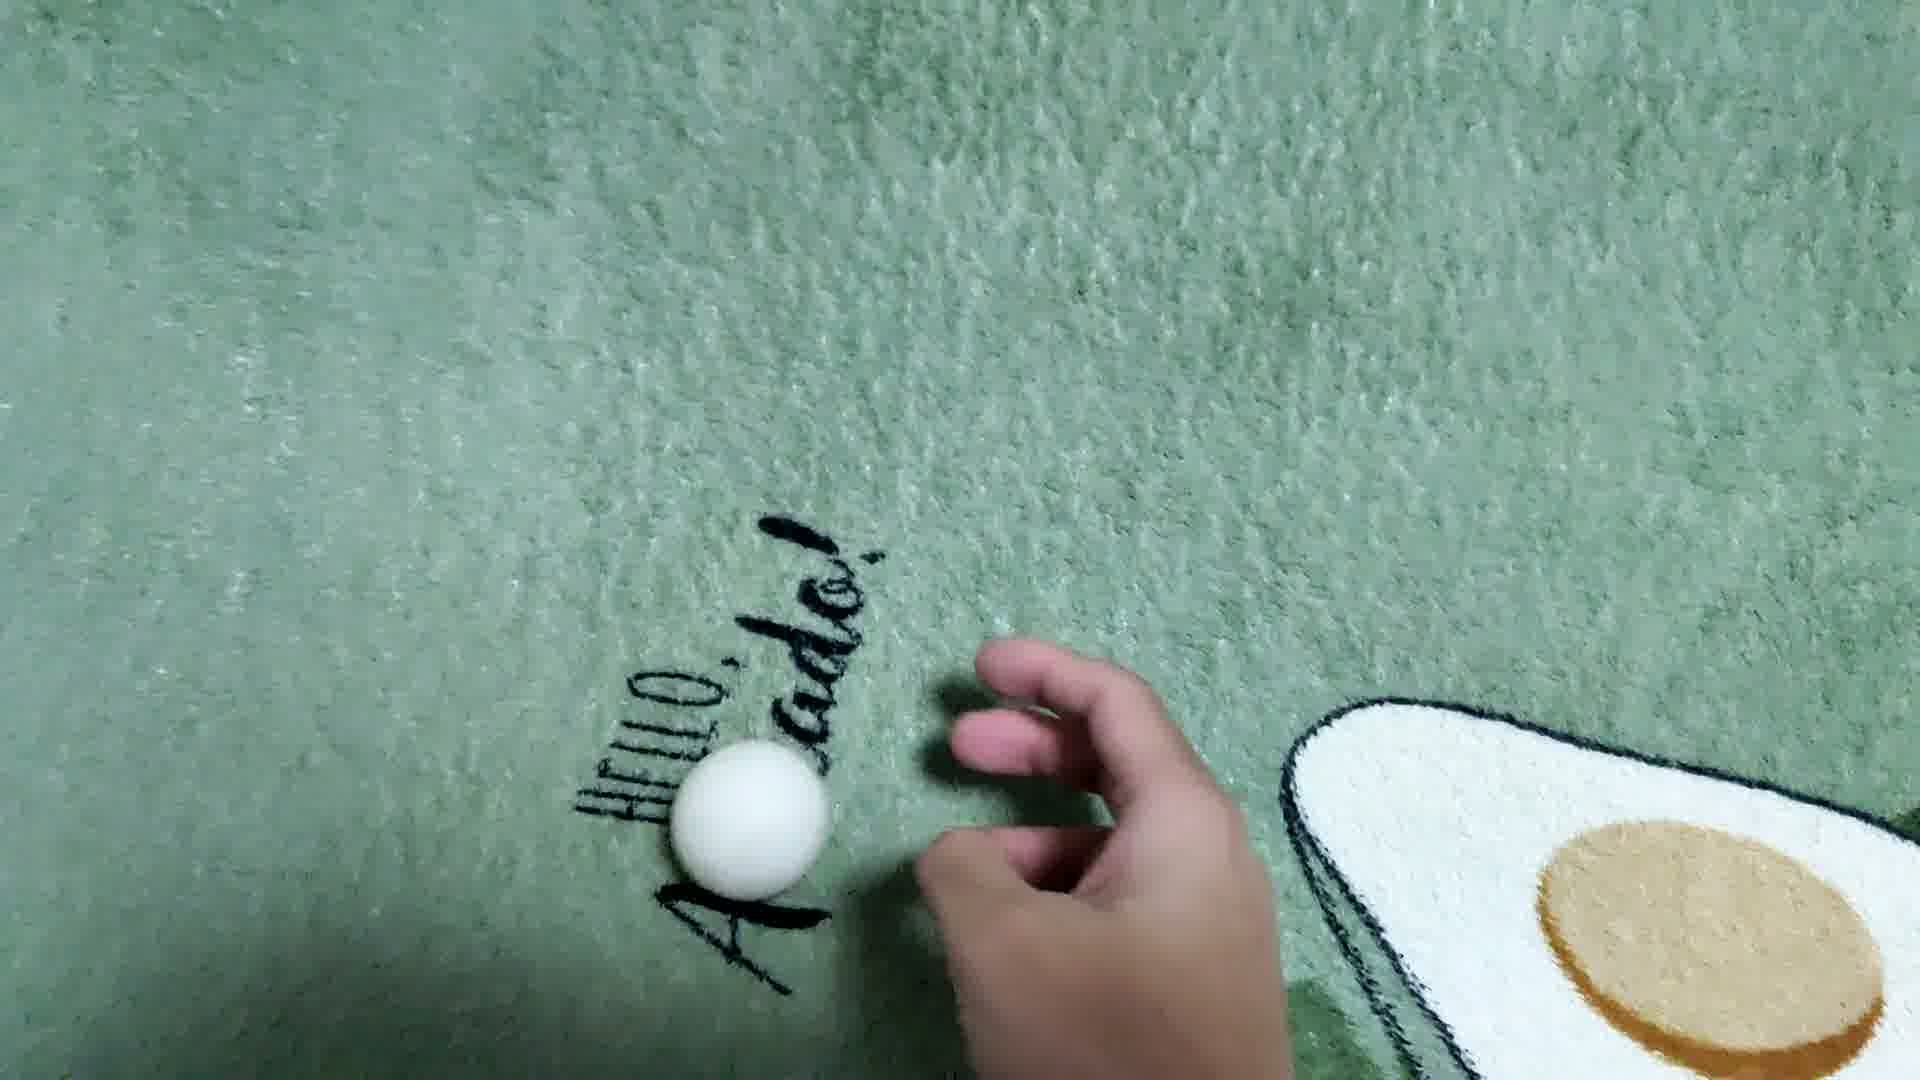Ball: (667, 737, 833, 898)
